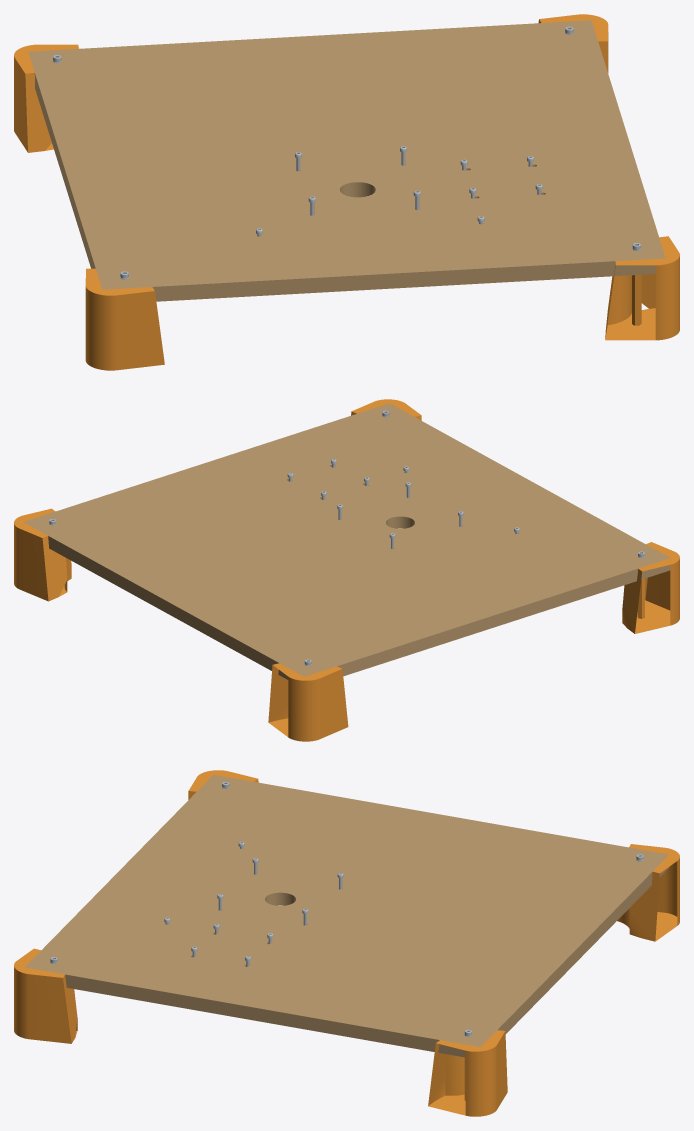
Rendered from base_platform_LOD0.fbx.
3 renders of one model, top to bottom at view 1: azimuth 30°, elevation 25°; view 2: azimuth 150°, elevation 25°; view 3: azimuth 270°, elevation 25°, orthographic. The views are drawn at different scales.
Visible parts, largest first — view 1: MM_moveo_base_fusta_930b474ffb, MM_moveo_potes_base_b_440d0dcfa5, MM_moveo_potes_base_b_3ab9c5a979, MM_moveo_potes_base_b_000b205ac5, MM_moveo_potes_base_b_d2e815a478; view 2: MM_moveo_base_fusta_930b474ffb, MM_moveo_potes_base_b_000b205ac5, MM_moveo_potes_base_b_440d0dcfa5, MM_moveo_potes_base_b_d2e815a478; view 3: MM_moveo_base_fusta_930b474ffb, MM_moveo_potes_base_b_d2e815a478, MM_moveo_potes_base_b_3ab9c5a979, MM_moveo_potes_base_b_000b205ac5, MM_moveo_potes_base_b_440d0dcfa5.
Boxes of the visible parts, left/top/right/bottom form: MM_moveo_base_fusta_930b474ffb: left=28, top=20, right=665, bottom=301; MM_moveo_potes_base_b_440d0dcfa5: left=85, top=268, right=164, bottom=370; MM_moveo_potes_base_b_3ab9c5a979: left=605, top=236, right=679, bottom=340; MM_moveo_potes_base_b_000b205ac5: left=14, top=44, right=78, bottom=152; MM_moveo_potes_base_b_d2e815a478: left=538, top=14, right=608, bottom=72; MM_moveo_base_fusta_930b474ffb: left=23, top=403, right=670, bottom=679; MM_moveo_potes_base_b_000b205ac5: left=268, top=663, right=348, bottom=741; MM_moveo_potes_base_b_440d0dcfa5: left=622, top=542, right=679, bottom=633; MM_moveo_potes_base_b_d2e815a478: left=14, top=508, right=71, bottom=601; MM_moveo_base_fusta_930b474ffb: left=25, top=774, right=669, bottom=1057; MM_moveo_potes_base_b_d2e815a478: left=428, top=1030, right=507, bottom=1116; MM_moveo_potes_base_b_3ab9c5a979: left=14, top=948, right=77, bottom=1043; MM_moveo_potes_base_b_000b205ac5: left=617, top=844, right=679, bottom=941; MM_moveo_potes_base_b_440d0dcfa5: left=188, top=770, right=258, bottom=799.
Bounding box in the file's own units: 0.7424 × 0.0985 × 0.7424.
